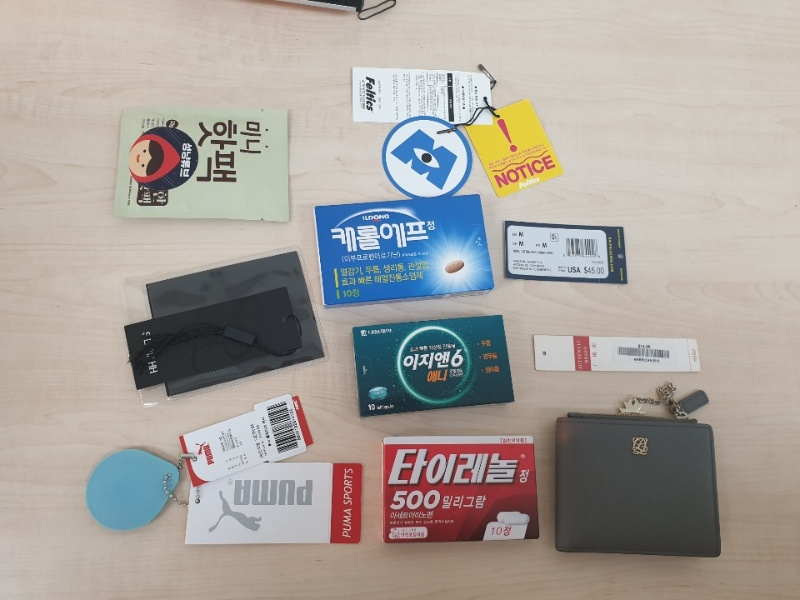carolF: (314, 193, 494, 305)
ezn: (350, 316, 515, 417)
tylenol: (382, 437, 541, 540)
